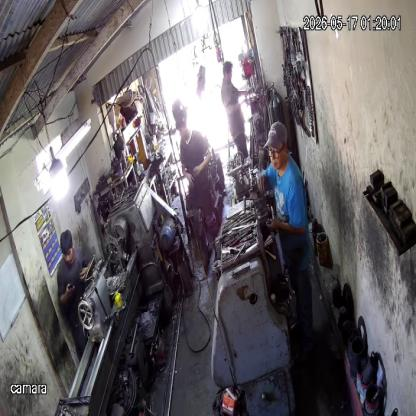lentes: (267, 144, 283, 157)
